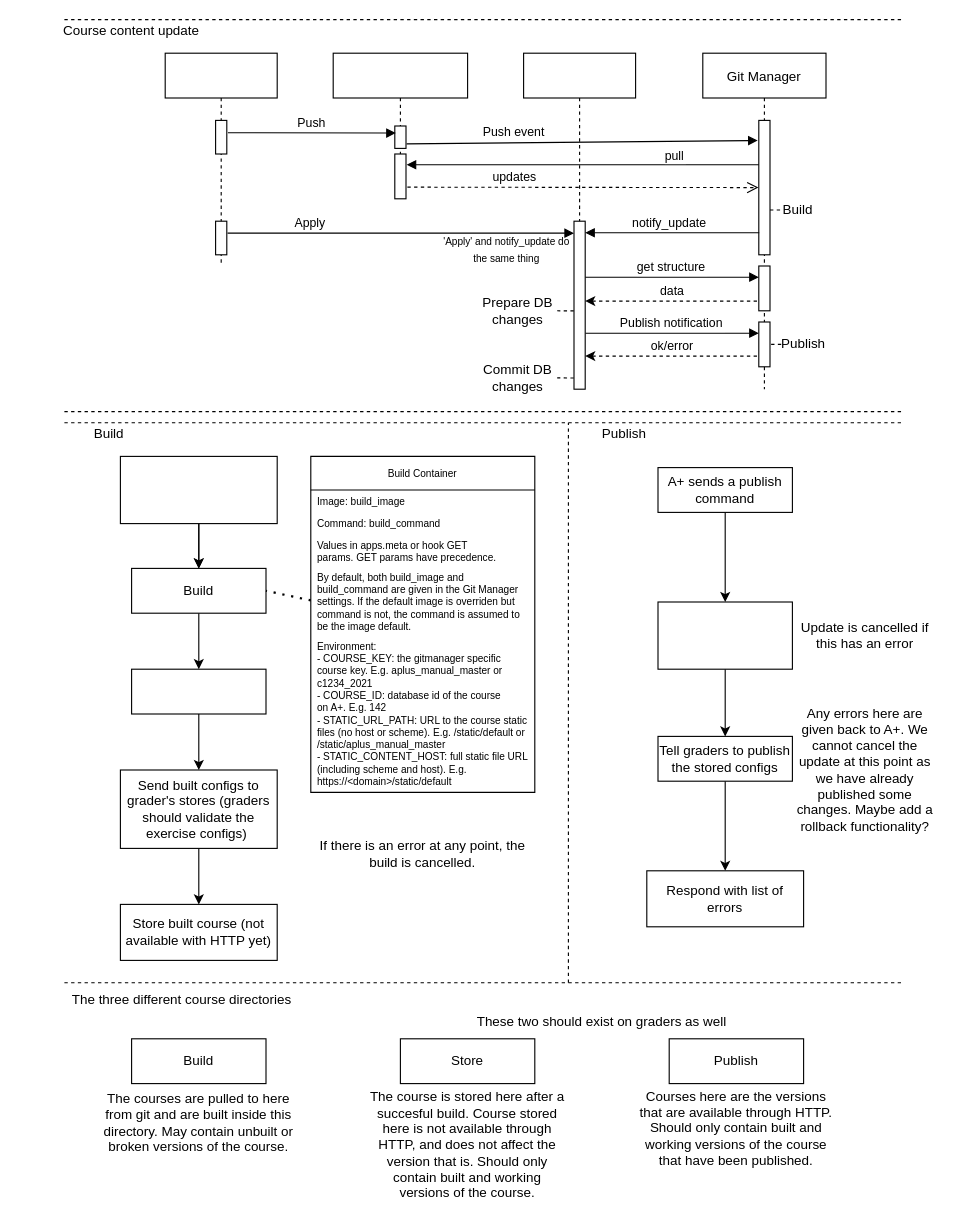
This 956x1226 diagram has some shape labels left out. The shapes that lost their labels are listed below. From the top down, each one's centre as x and y in pixels, then its label:
(x=400, y=125): Git service (e.g. version.aalto.fi)
(x=220, y=159): Teacher
(x=579, y=187): A+
(x=198, y=489): Something initiates the build (either wehbook or UI button)
(x=724, y=635): Move built course from store to publish (now available with HTTP)
(x=198, y=691): Validation
